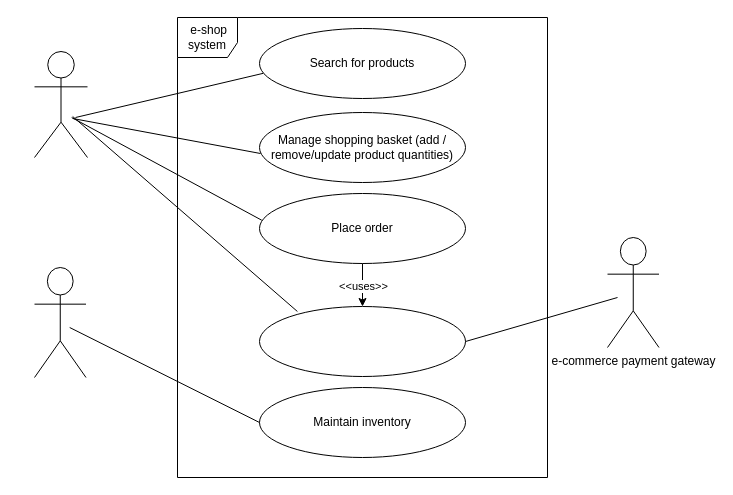
Image size: 733x495. Some labels were removed from this diagram. Each missing label, with the centre of its shape:
Customer: the point at 61,104
e-shop manager: the point at 60,322
Process payment: the point at 362,341
